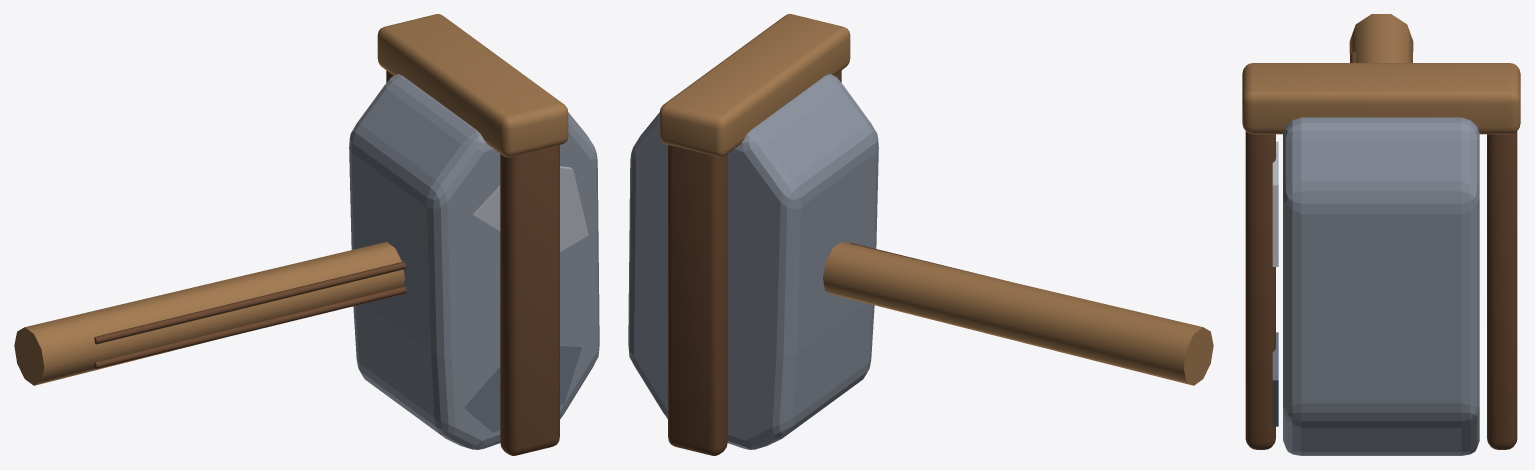
Rendered from wpn_stonehammer.glb.
The picture shows the model from 3 angles, left to right: view 1: azimuth 30°, elevation 25°; view 2: azimuth 150°, elevation 25°; view 3: azimuth 270°, elevation 25°; orthographic projection. The views are drawn at different scales.
Visible parts, largest first — view 1: object 3, oak-clamp_0, oak-shaft_2, oak-shaft_1; view 2: object 3, oak-clamp_1; view 3: object 3, oak-clamp_1, oak-clamp_0.
Part boxes in pixels (bbox=[...]): object 3: bbox=[14, 14, 599, 449]; oak-clamp_0: bbox=[500, 145, 559, 455]; oak-shaft_2: bbox=[94, 262, 405, 344]; oak-shaft_1: bbox=[94, 286, 406, 368]; object 3: bbox=[628, 14, 1213, 449]; oak-clamp_1: bbox=[668, 145, 727, 455]; object 3: bbox=[1242, 14, 1520, 455]; oak-clamp_1: bbox=[1487, 131, 1517, 449]; oak-clamp_0: bbox=[1245, 131, 1275, 449].
Bounding box in the file's own units: 1.19 × 0.7473 × 0.5125.
